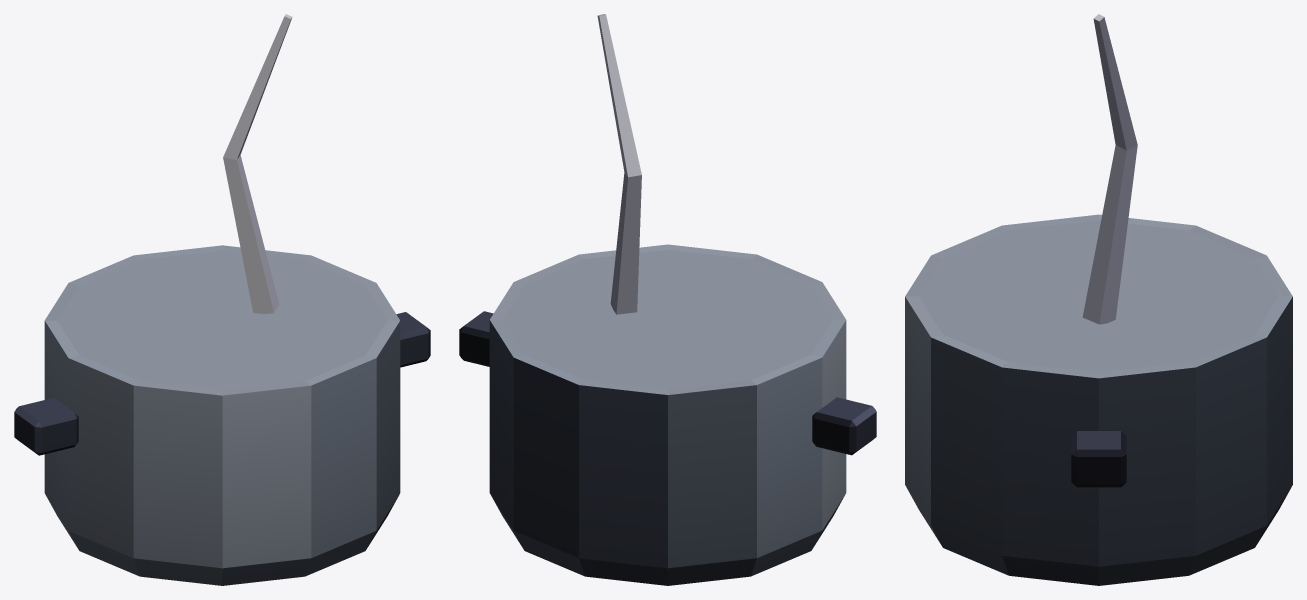
The model's file is stew_pot.glb.
The picture shows the model from 3 angles, left to right: view 1: azimuth 30°, elevation 25°; view 2: azimuth 150°, elevation 25°; view 3: azimuth 270°, elevation 25°; orthographic projection. The views are drawn at different scales.
Parts seen in each view (by area): view 1: stew_pot; view 2: stew_pot; view 3: stew_pot.
Part boxes in pixels (bbox=[...]): stew_pot: bbox=[14, 14, 430, 585]; stew_pot: bbox=[459, 14, 876, 585]; stew_pot: bbox=[905, 14, 1292, 585].
Size of the model in its own units: 0.36 by 0.4212 by 0.28.
